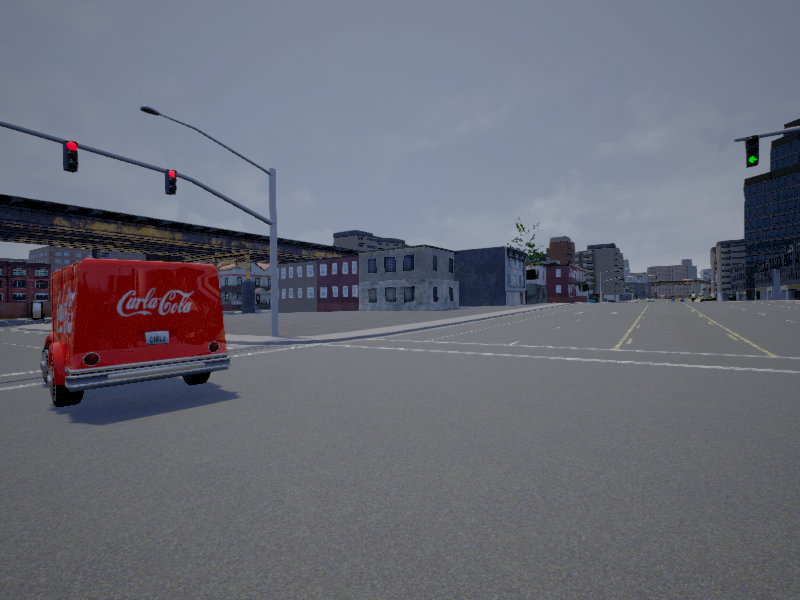Benign: (41, 259, 229, 409)
